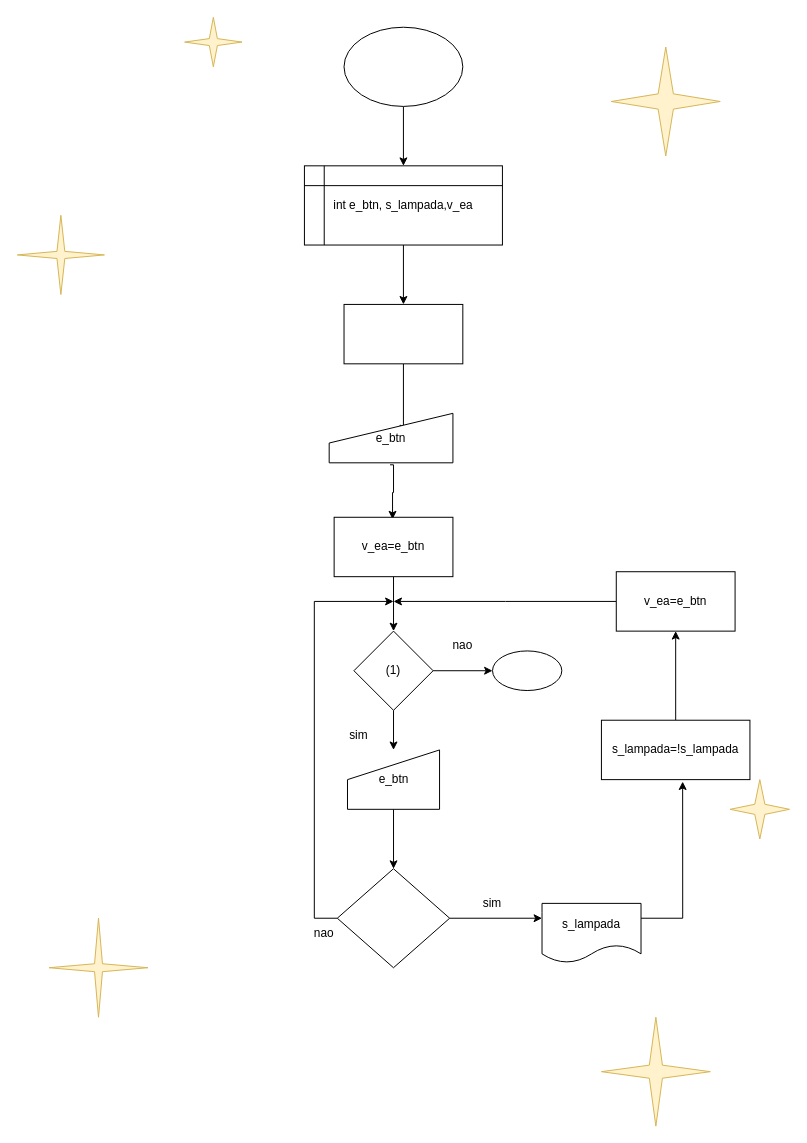
This 807x1143 diagram has some shape labels left out. The centre of each missing label's shape, as x and y in pixels:
"and" goes at (x=527, y=670).
"e_btn=1 v_ea=0" goes at (x=393, y=918).
"inicio" goes at (x=403, y=66).
"s_lampada=0" goes at (x=403, y=333).
